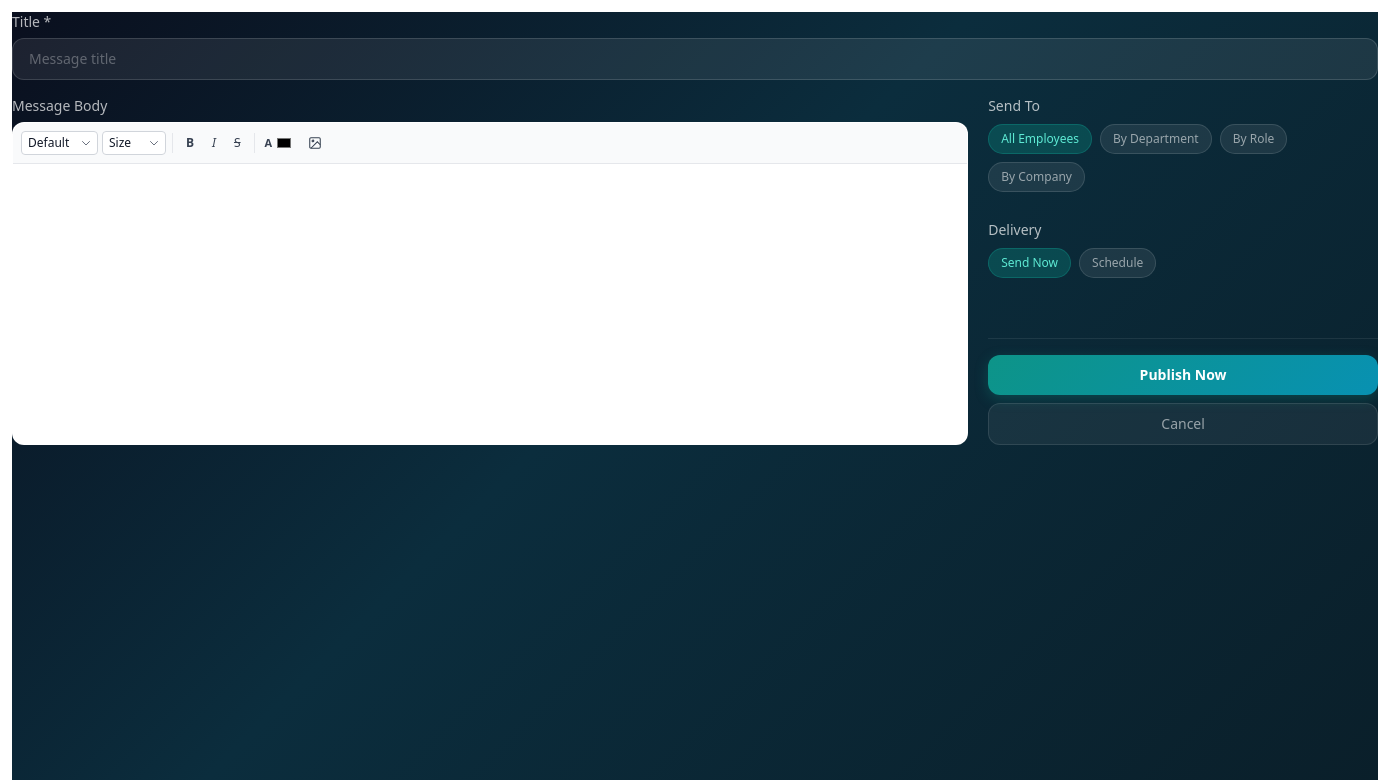
Scenario: MessageForm › shows validation error when title is empty on submit
Click the button "Publish Now" at (1183, 375), box [988,355,1378,395]
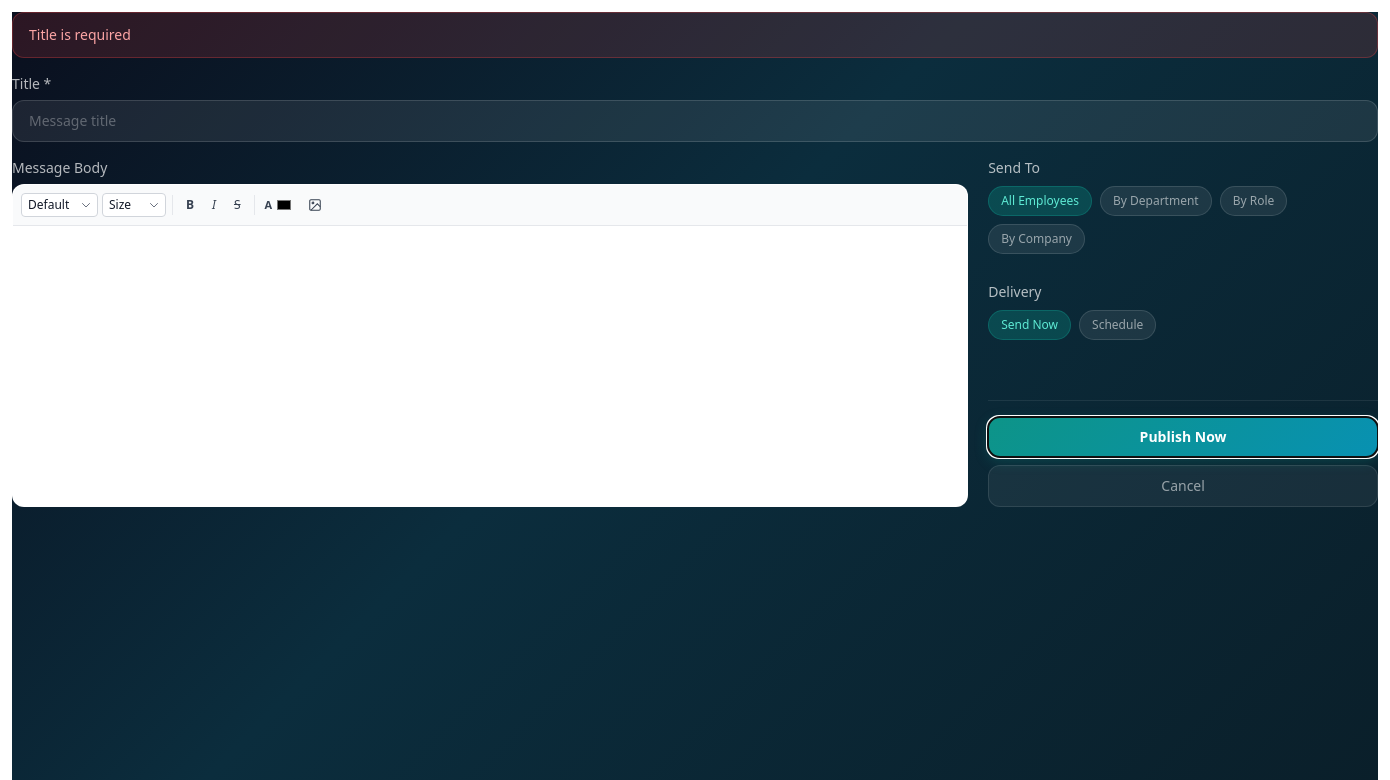
Now the text "Title is required" is shown, box [12,12,1378,58]
